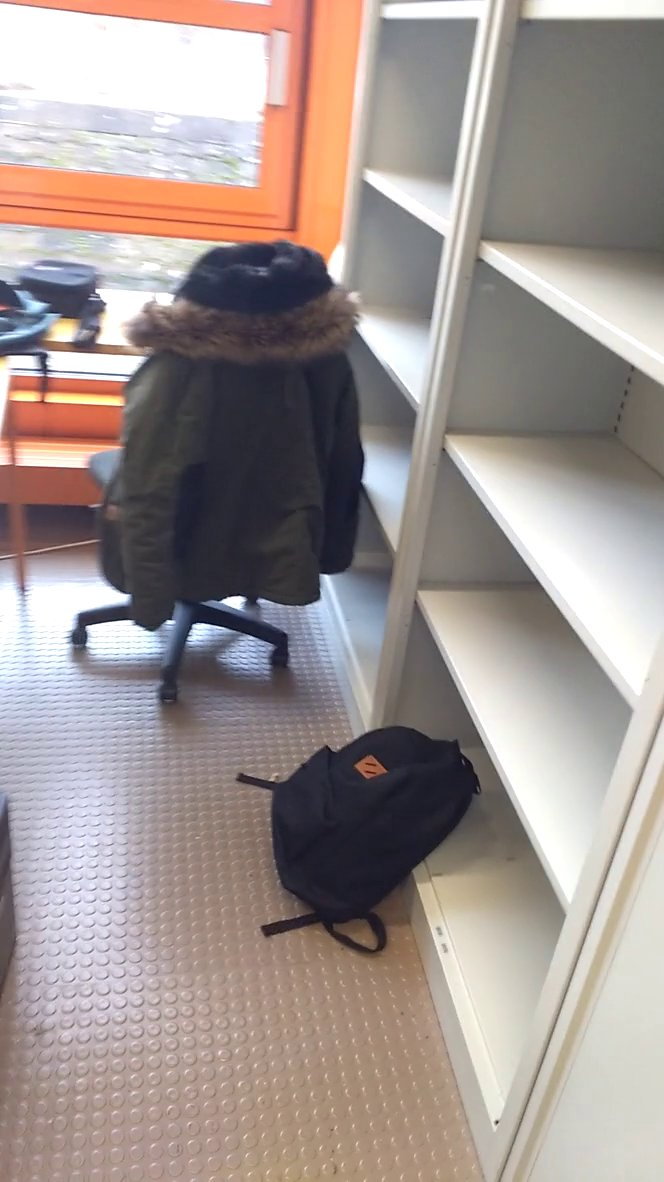bag: (260, 718, 490, 966)
